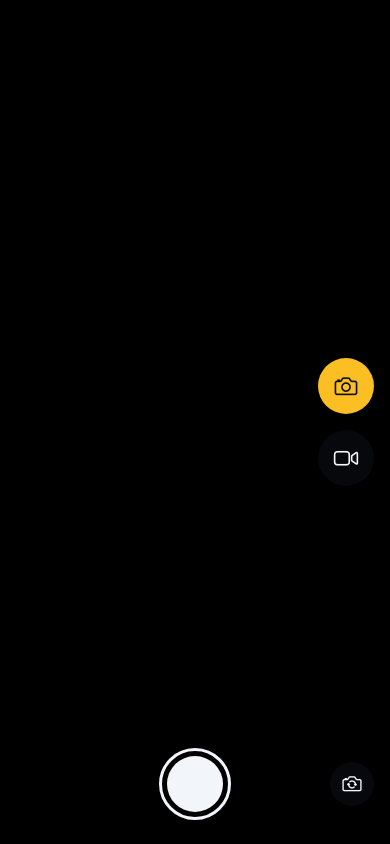
Scenario: recording a video › shows how far along the saving is
This screenshot has width=390, height=844.
Click the radio button named "Video" at (346, 458), box top-left (318, 430), bottom-right (374, 486)
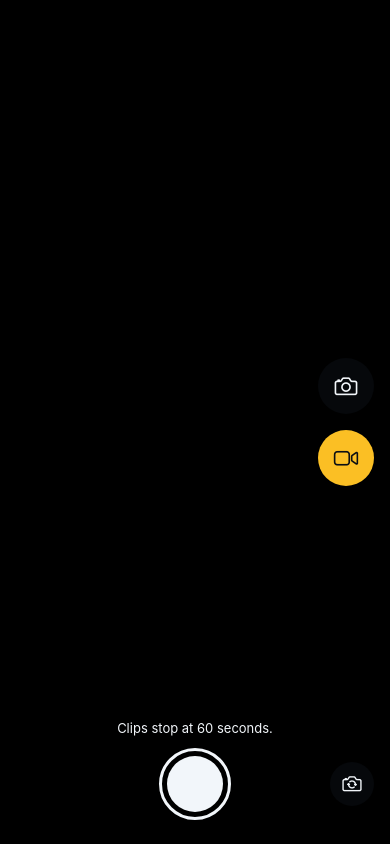
Click the button named "Start video" at (195, 784), box top-left (159, 748), bottom-right (231, 820)
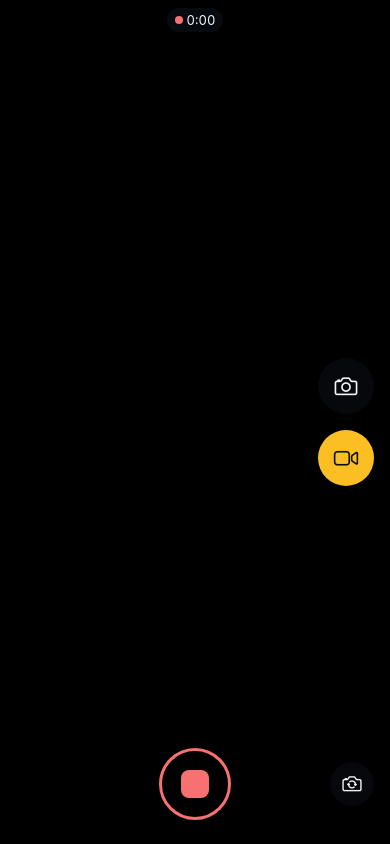
Click the button named "Stop video" at (195, 784), box top-left (159, 748), bottom-right (231, 820)
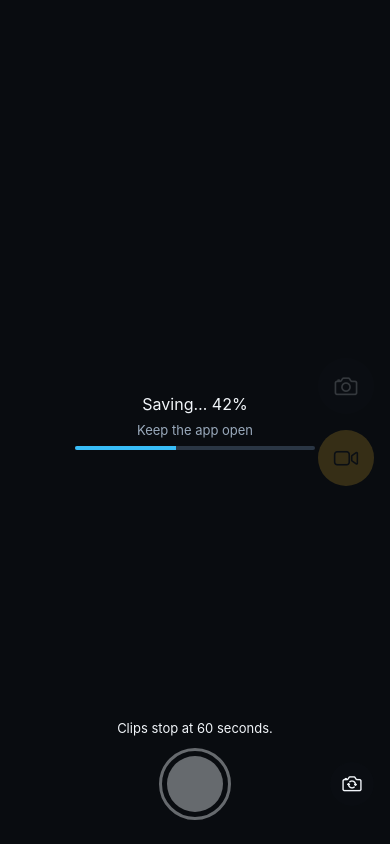
Check: the element named "Saving, 42%" is shown
